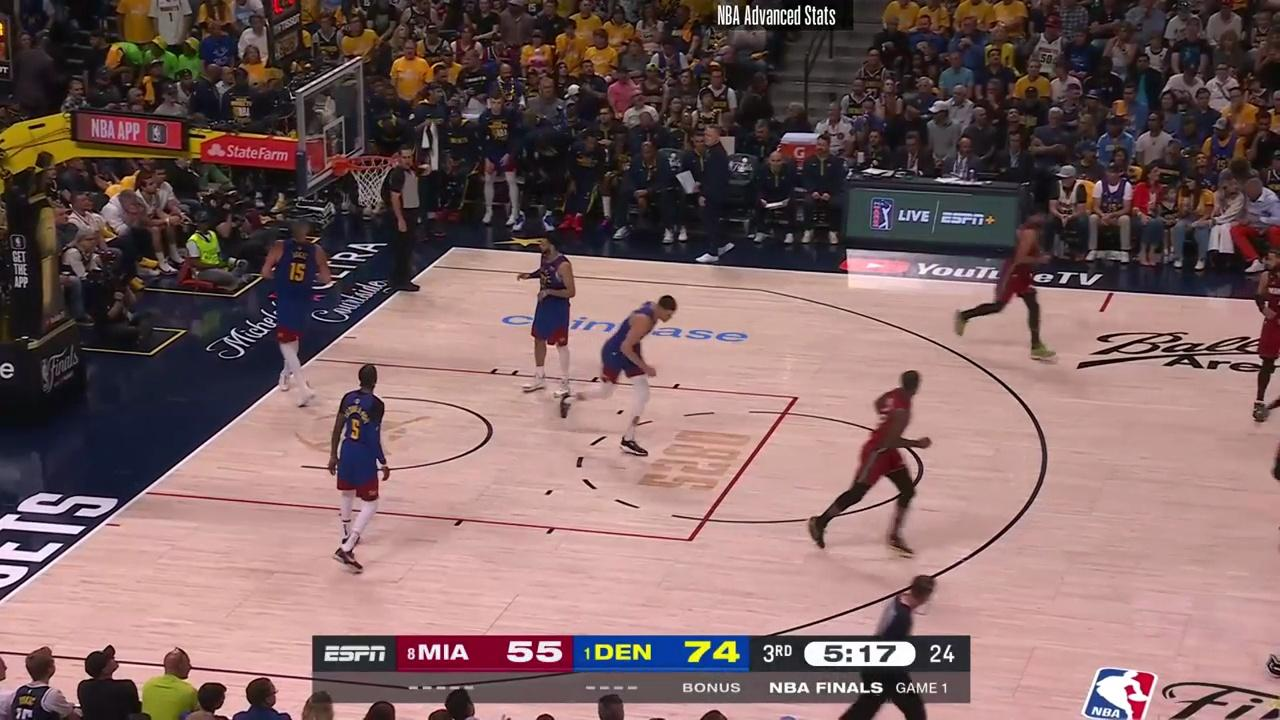Backboard: (298, 60, 368, 192)
Basket: (345, 150, 397, 209)
Person: (802, 363, 936, 555), (553, 284, 677, 456), (952, 199, 1058, 364), (324, 364, 398, 577), (259, 214, 334, 409), (514, 232, 589, 401), (1245, 242, 1280, 423)
Referee: (835, 567, 948, 720), (379, 144, 431, 294)
Shot Clock: (258, 0, 308, 57), (0, 0, 21, 107)
